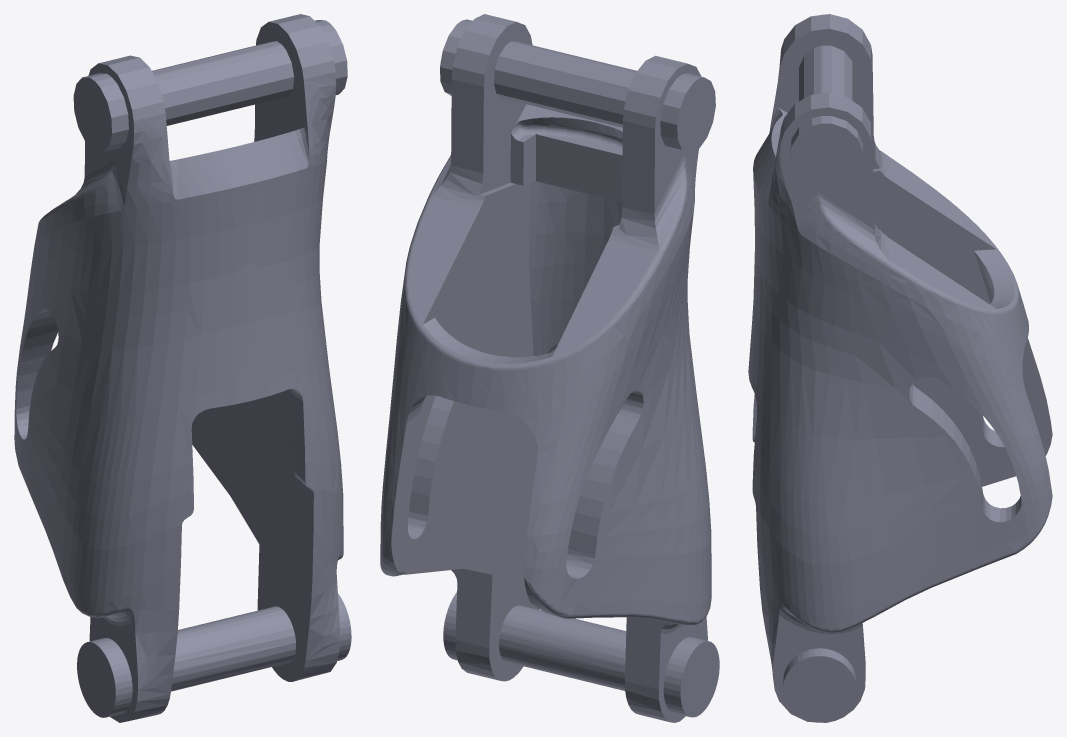
Rendered from hand1_link_5_1_visuals.obj.
The picture shows the model from 3 angles, left to right: view 1: azimuth 30°, elevation 25°; view 2: azimuth 150°, elevation 25°; view 3: azimuth 270°, elevation 25°; orthographic projection. The views are drawn at different scales.
Bounding box in the file's own units: 0.0151 × 0.0369 × 0.0165.
